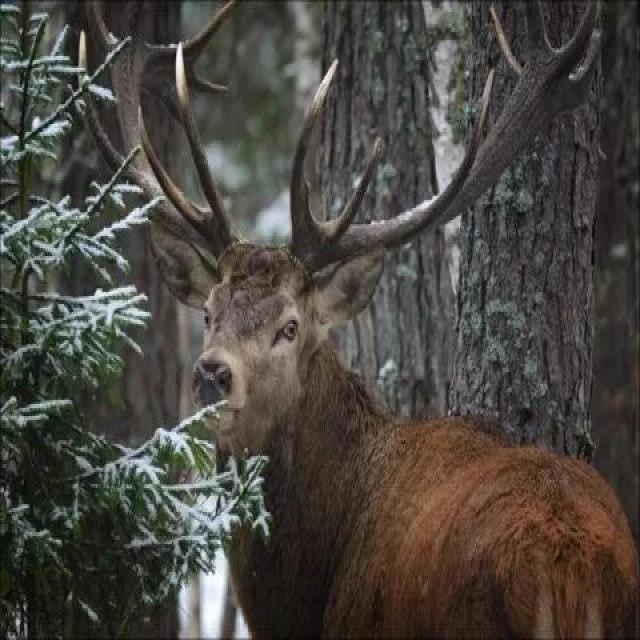deer: (127, 81, 567, 599)
